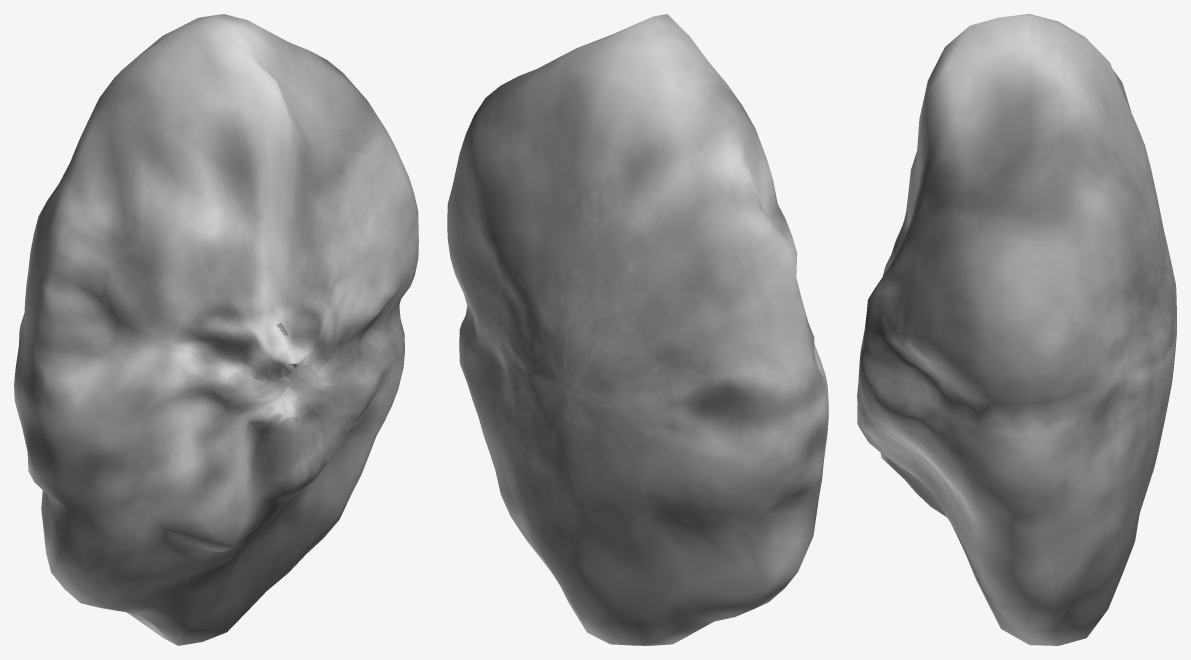
File: s16prometheus_MLfix.obj
The picture shows the model from 3 angles, left to right: view 1: azimuth 30°, elevation 25°; view 2: azimuth 150°, elevation 25°; view 3: azimuth 270°, elevation 25°; orthographic projection. The views are drawn at different scales.
Size of the model in its own units: 92.67 by 148 by 68.38.
Materials: 1 (1 with a texture image).
